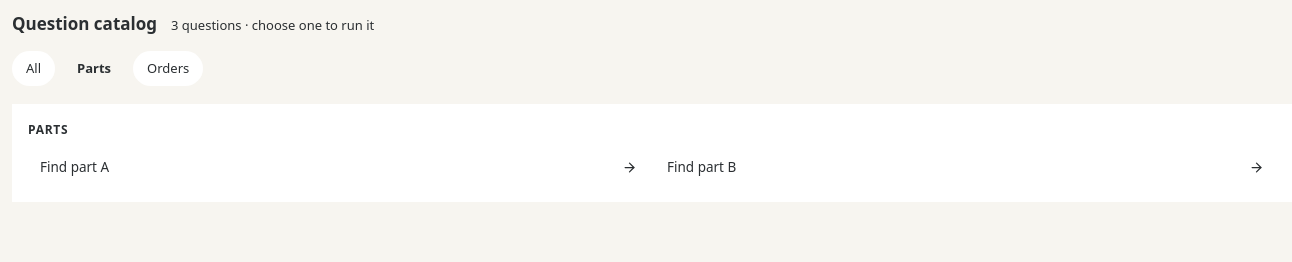
Test: question catalog › narrows to one category and back to all
Click the button "Orders" at (168, 69), box top-left (133, 51), bottom-right (203, 86)
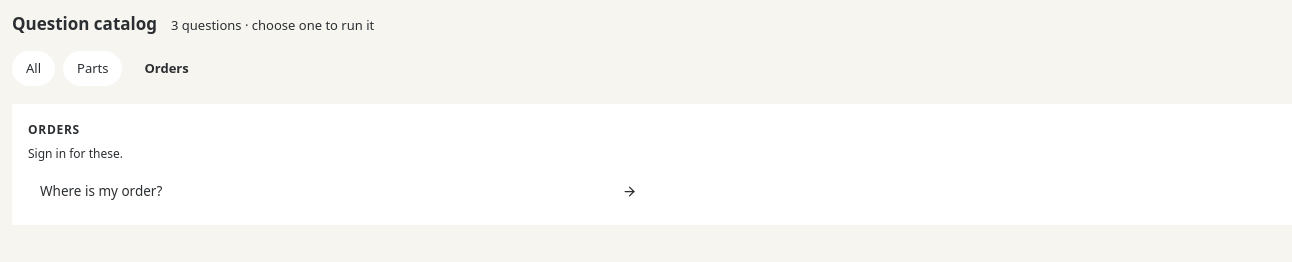
Expected: the button "Orders" is pressed, top-left (130, 51), bottom-right (203, 86)
Click the button "All" at (34, 69), box top-left (12, 51), bottom-right (55, 86)
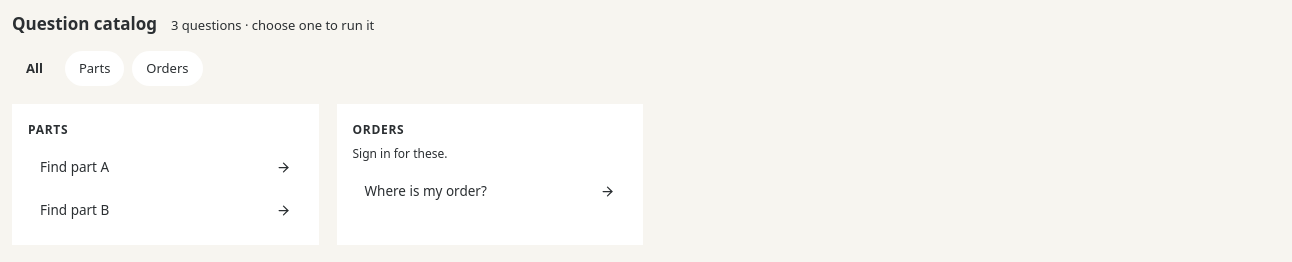
Expected: the list named "Parts questions" is shown, top-left (28, 149), bottom-right (302, 229)
